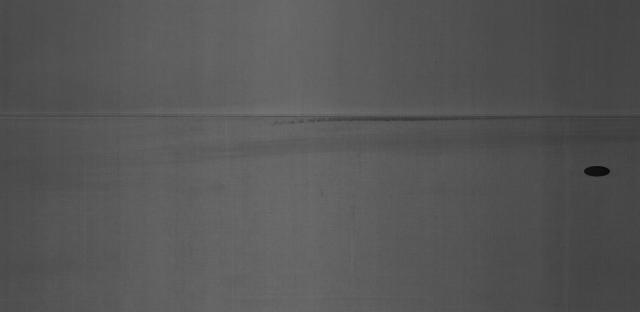punching_hole: (580, 162, 614, 180)
welding_line: (3, 106, 634, 129)
